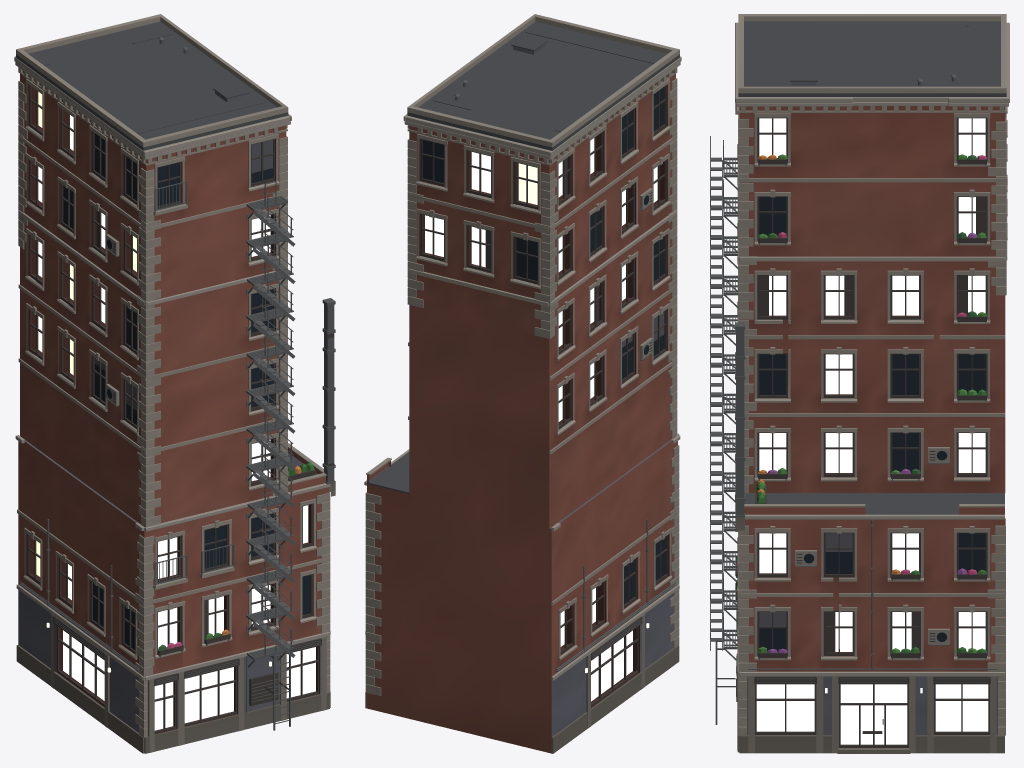
The model's file is hotel218.glb.
3 renders of one model, left to right at view 1: azimuth 30°, elevation 25°; view 2: azimuth 150°, elevation 25°; view 3: azimuth 270°, elevation 25°, orthographic. The views are drawn at different scales.
Parts seen in each view (by area): view 1: h218-wall, h218-trim, h218-steel, h218-roof, h218-frame, h218-dark, h218-wall2, h218-shop, h218-room0, h218-room1, h218-room2; view 2: h218-wall, h218-trim, h218-roof, h218-frame, h218-dark, h218-wall2, h218-room2, h218-room0, h218-shop, h218-steel, h218-room1; view 3: h218-wall, h218-trim, h218-roof, h218-frame, h218-steel, h218-room1, h218-dark, h218-shop, h218-room0, h218-room2, h218-wall2, h218-plant.
Boxes of the visible parts, <box> form: h218-wall: <box>18,70,328,734</box>; h218-trim: <box>14,14,335,753</box>; h218-steel: <box>20,37,335,730</box>; h218-roof: <box>16,21,317,474</box>; h218-frame: <box>27,85,334,733</box>; h218-dark: <box>63,133,310,650</box>; h218-wall2: <box>18,91,321,735</box>; h218-shop: <box>63,630,315,730</box>; h218-room0: <box>36,92,223,648</box>; h218-room1: <box>38,115,308,626</box>; h218-room2: <box>38,166,270,481</box>; h218-wall: <box>367,71,677,753</box>; h218-trim: <box>364,14,681,753</box>; h218-roof: <box>367,21,679,493</box>; h218-frame: <box>420,85,668,706</box>; h218-dark: <box>422,87,665,604</box>; h218-wall2: <box>513,43,673,736</box>; h218-room2: <box>425,152,625,346</box>; h218-room0: <box>518,161,657,646</box>; h218-shop: <box>591,630,632,701</box>; h218-steel: <box>454,80,675,671</box>; h218-room1: <box>471,138,595,623</box>; h218-wall: <box>739,106,1005,747</box>; h218-trim: <box>735,14,1009,753</box>; h218-roof: <box>738,21,1006,514</box>; h218-frame: <box>735,117,990,747</box>; h218-steel: <box>710,74,996,724</box>; h218-room1: <box>759,118,985,744</box>; h218-dark: <box>759,197,985,651</box>; h218-shop: <box>756,684,988,731</box>; h218-room0: <box>825,118,985,472</box>; h218-room2: <box>759,433,985,573</box>; h218-wall2: <box>739,82,1004,735</box>; h218-plant: <box>735,154,987,653</box>.
Size of the model in its own units: 8.36 by 25.37 by 10.71.
